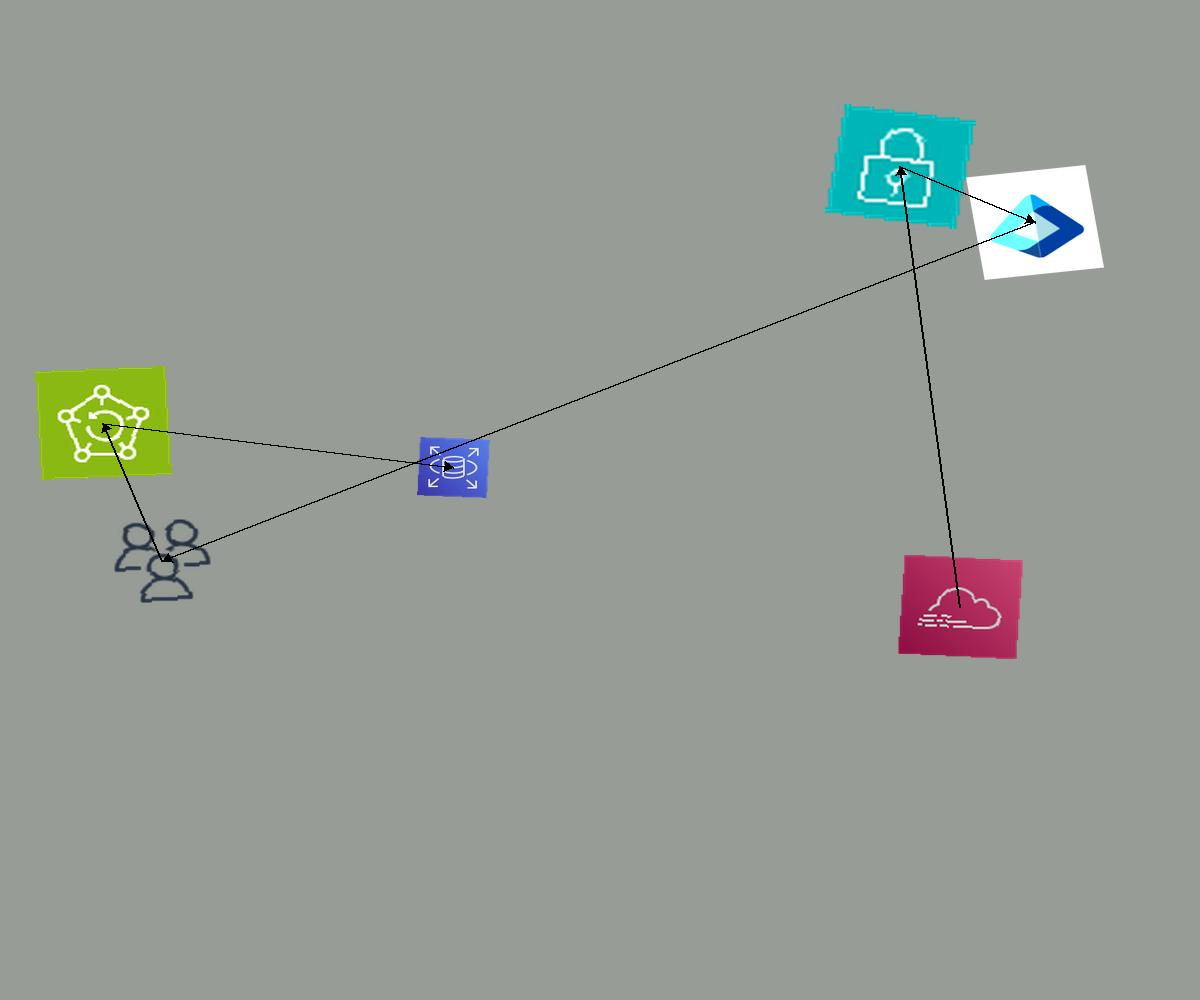AWS-Backup: (35, 366, 172, 480)
AWS-CloudTrail: (897, 554, 1024, 660)
AWS-Private-subnet: (825, 104, 976, 229)
AWS-RDS: (417, 437, 490, 498)
AWS-Res_Users: (106, 514, 219, 608)
Azure_microsoft_entra: (966, 165, 1104, 280)
